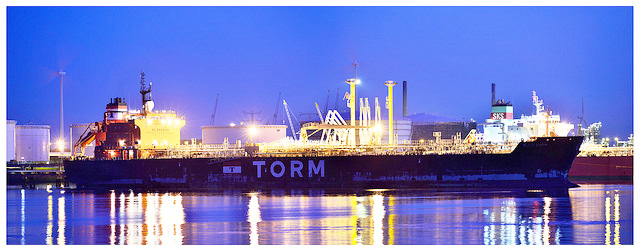tanker: (65, 74, 591, 192)
